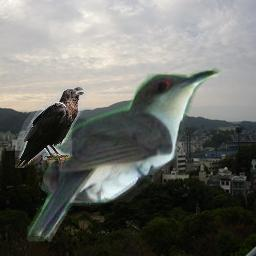Crow: (15, 86, 87, 168)
Cuckoo: (27, 68, 222, 243)
